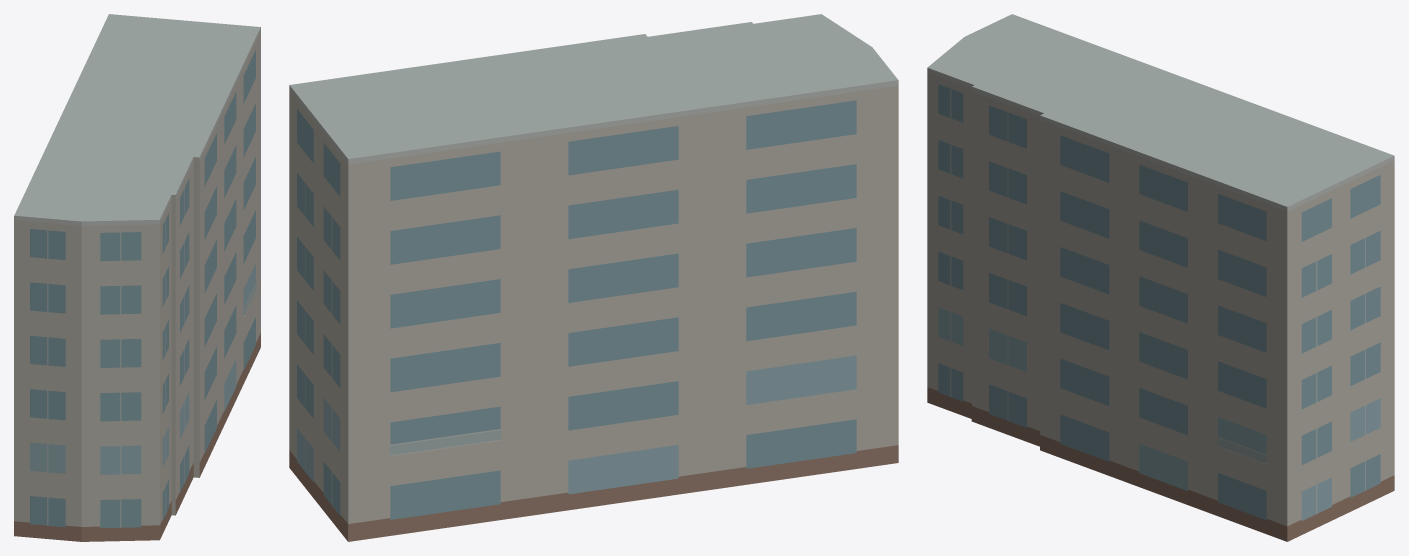
Rendered from survey-upis-32670994.glb.
The picture shows the model from 3 angles, left to right: view 1: azimuth 30°, elevation 25°; view 2: azimuth 150°, elevation 25°; view 3: azimuth 270°, elevation 25°; orthographic projection. The views are drawn at different scales.
Visible parts, largest first — view 1: survey-upis-32670994.tmp; view 2: survey-upis-32670994.tmp; view 3: survey-upis-32670994.tmp.
Part boxes in pixels (left/top/right/bottom): survey-upis-32670994.tmp: left=14, top=14, right=260, bottom=541; survey-upis-32670994.tmp: left=289, top=14, right=898, bottom=541; survey-upis-32670994.tmp: left=927, top=14, right=1394, bottom=541.
Bounding box in the file's own units: 21.38 × 17.3 × 21.89.
